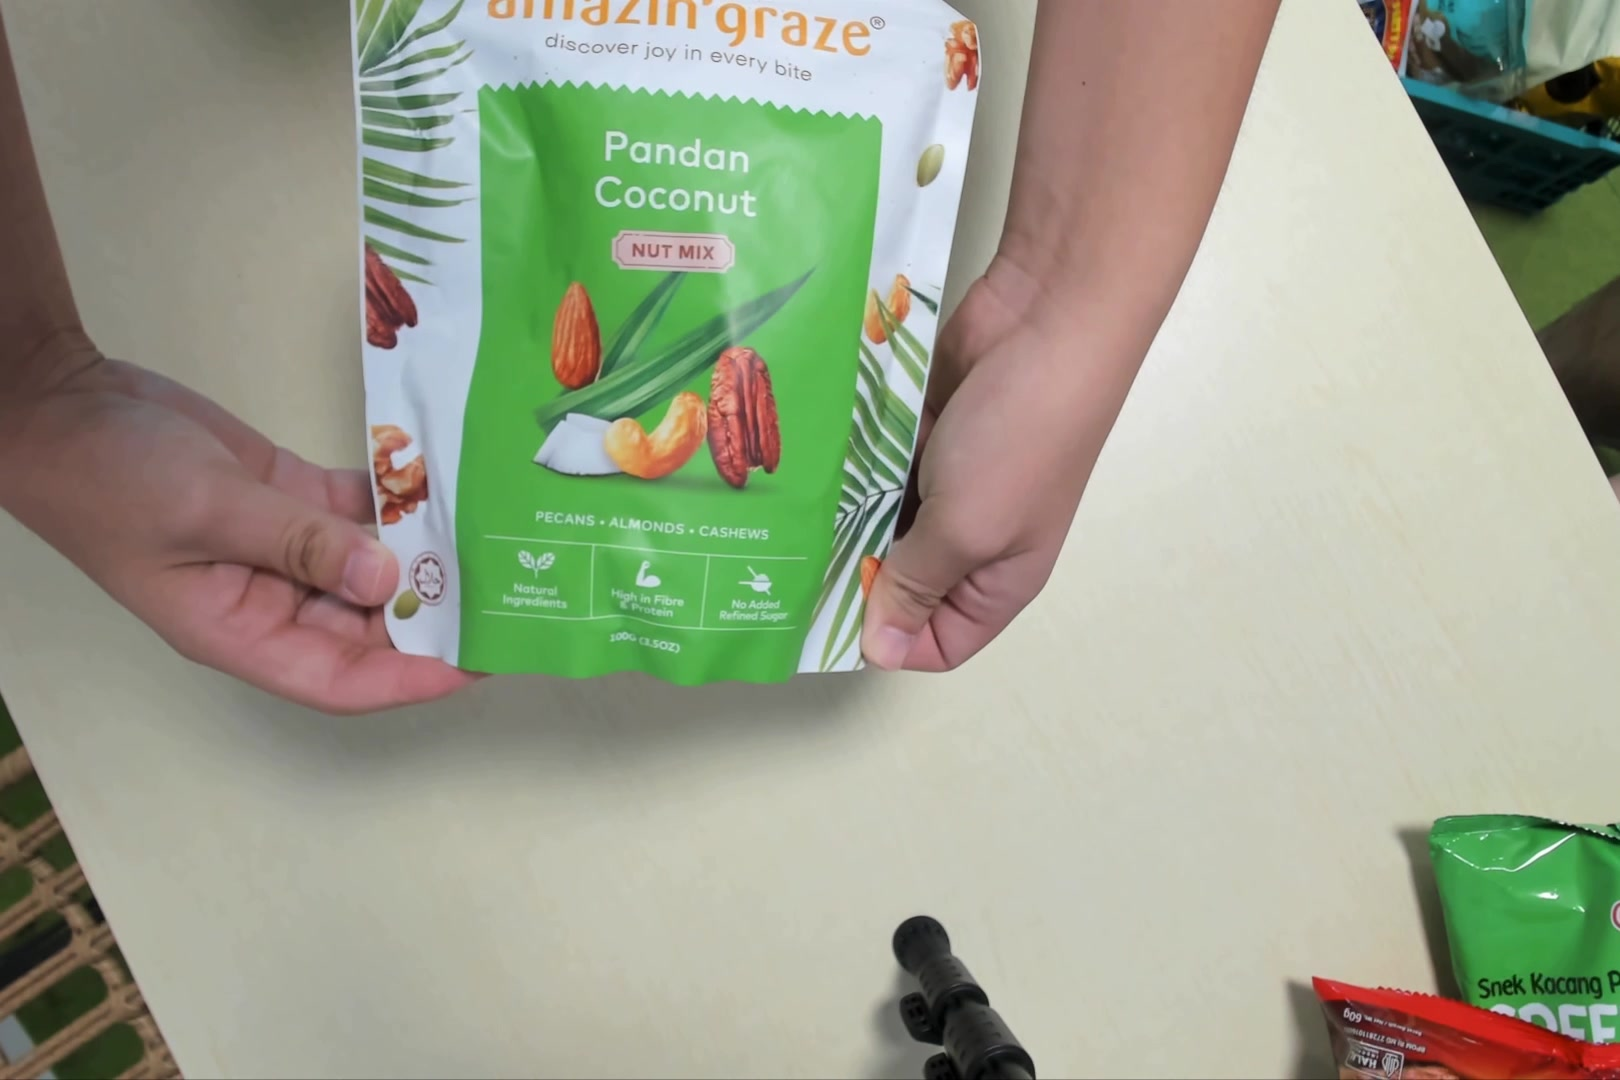Nuts_100-199g_Halal_NonHealthy: (351, 8, 980, 683)
